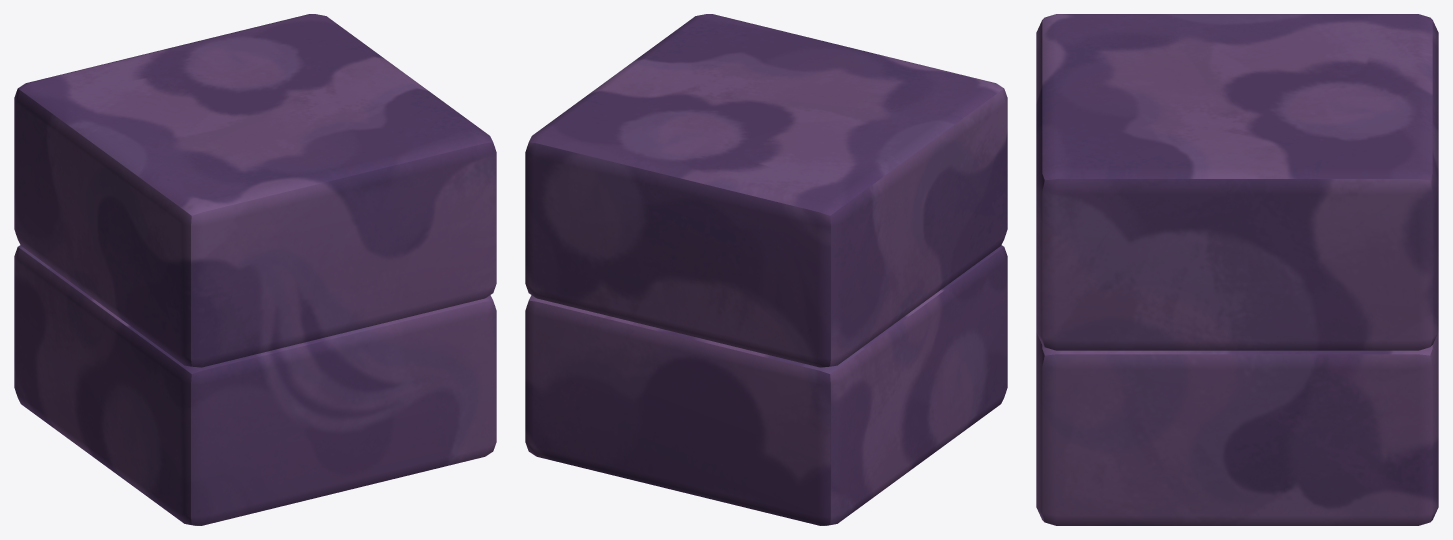
The model's file is cube_plain.fbx.
3 views of the same model, side by side, from view 1: azimuth 30°, elevation 25°; view 2: azimuth 150°, elevation 25°; view 3: azimuth 270°, elevation 25° (orthographic). The views are drawn at different scales.
Parts seen in each view (by area): view 1: pCube1, pCube2; view 2: pCube1, pCube2; view 3: pCube1, pCube2.
Boxes of the visible parts, <box> form: pCube1: <box>14,14,496,367</box>; pCube2: <box>14,245,496,525</box>; pCube1: <box>525,14,1007,367</box>; pCube2: <box>525,245,1007,525</box>; pCube1: <box>1036,14,1438,350</box>; pCube2: <box>1036,332,1438,525</box>.
Bounding box in the file's own units: 100 × 98.06 × 100.
